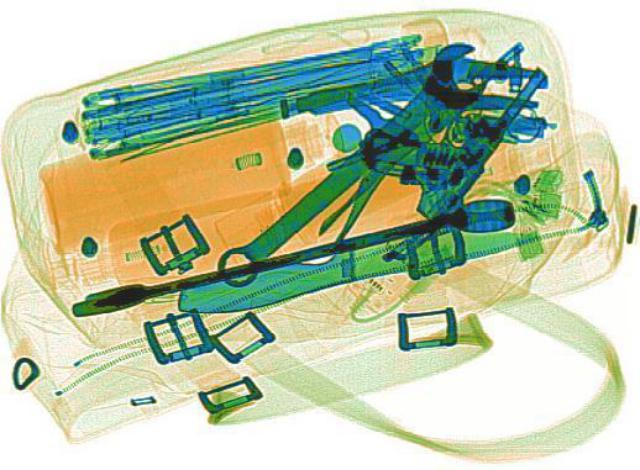Gun: (328, 34, 550, 223)
Knife: (163, 205, 545, 319)
Wrench: (196, 33, 512, 297)
